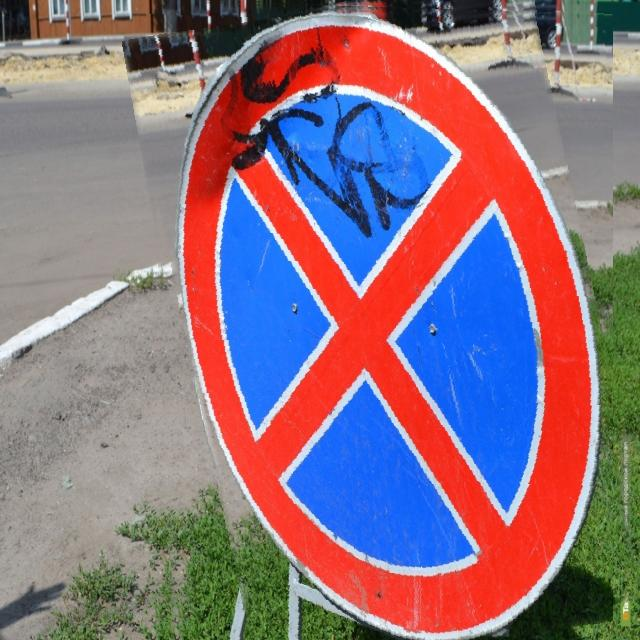no stopping: (148, 0, 613, 640)
